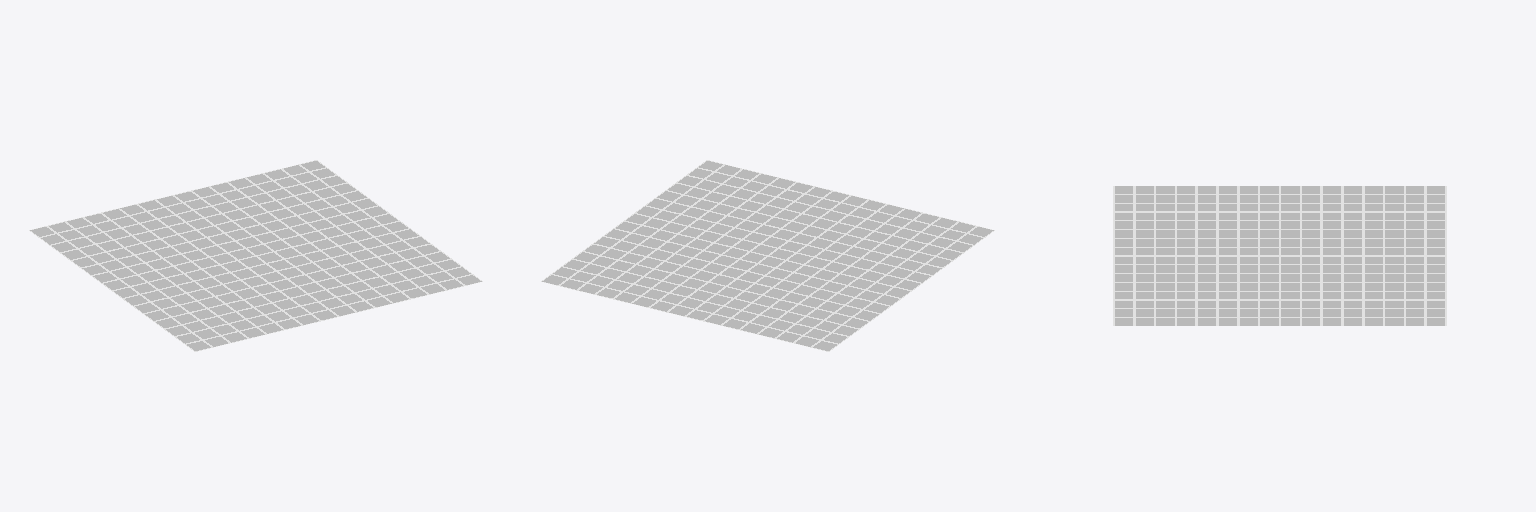
3 views of the same model, side by side, from view 1: azimuth 30°, elevation 25°; view 2: azimuth 150°, elevation 25°; view 3: azimuth 270°, elevation 25° (orthographic).
Visible parts, largest first — view 1: 平面; view 2: 平面; view 3: 平面.
Boxes of the visible parts, <box> form: 平面: <box>29,160,482,351</box>; 平面: <box>541,160,994,351</box>; 平面: <box>1113,186,1446,325</box>.
Size of the model in its own units: 300 by 0 by 300.
1 materials, 1 textured.